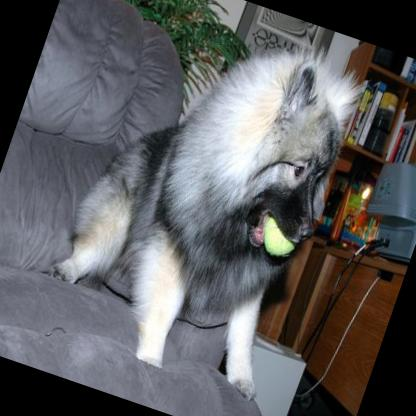keeshond: (32, 0, 368, 399)
